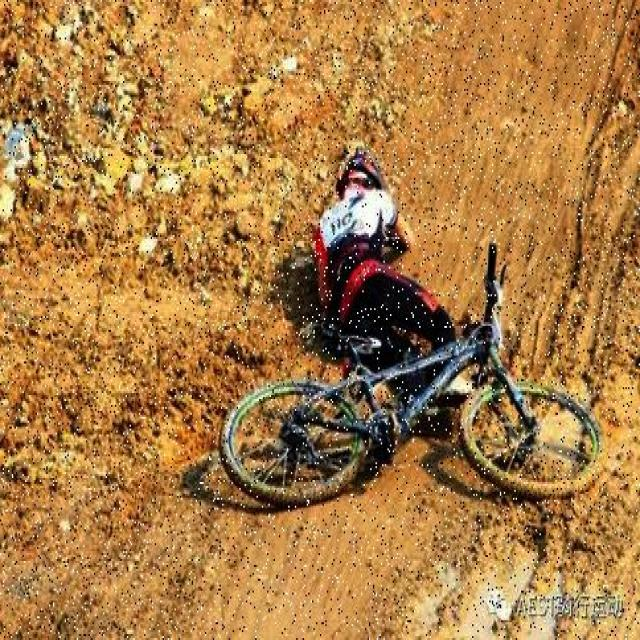fall: (304, 152, 454, 377)
